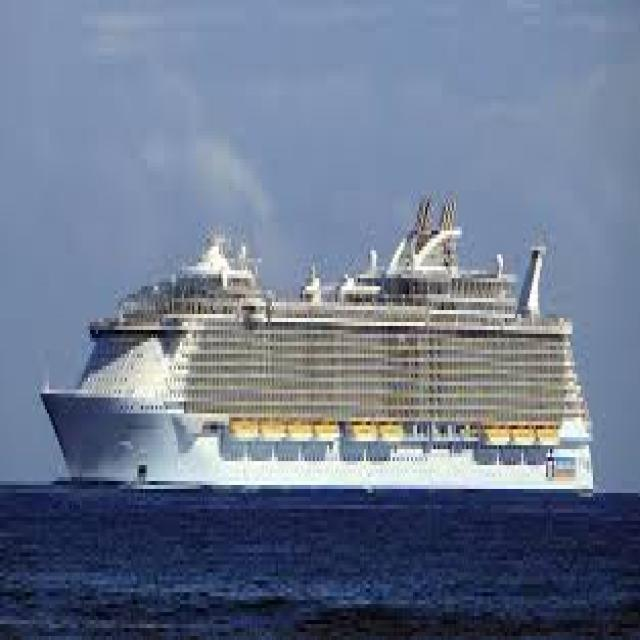PassengerShip: (22, 174, 620, 552)
